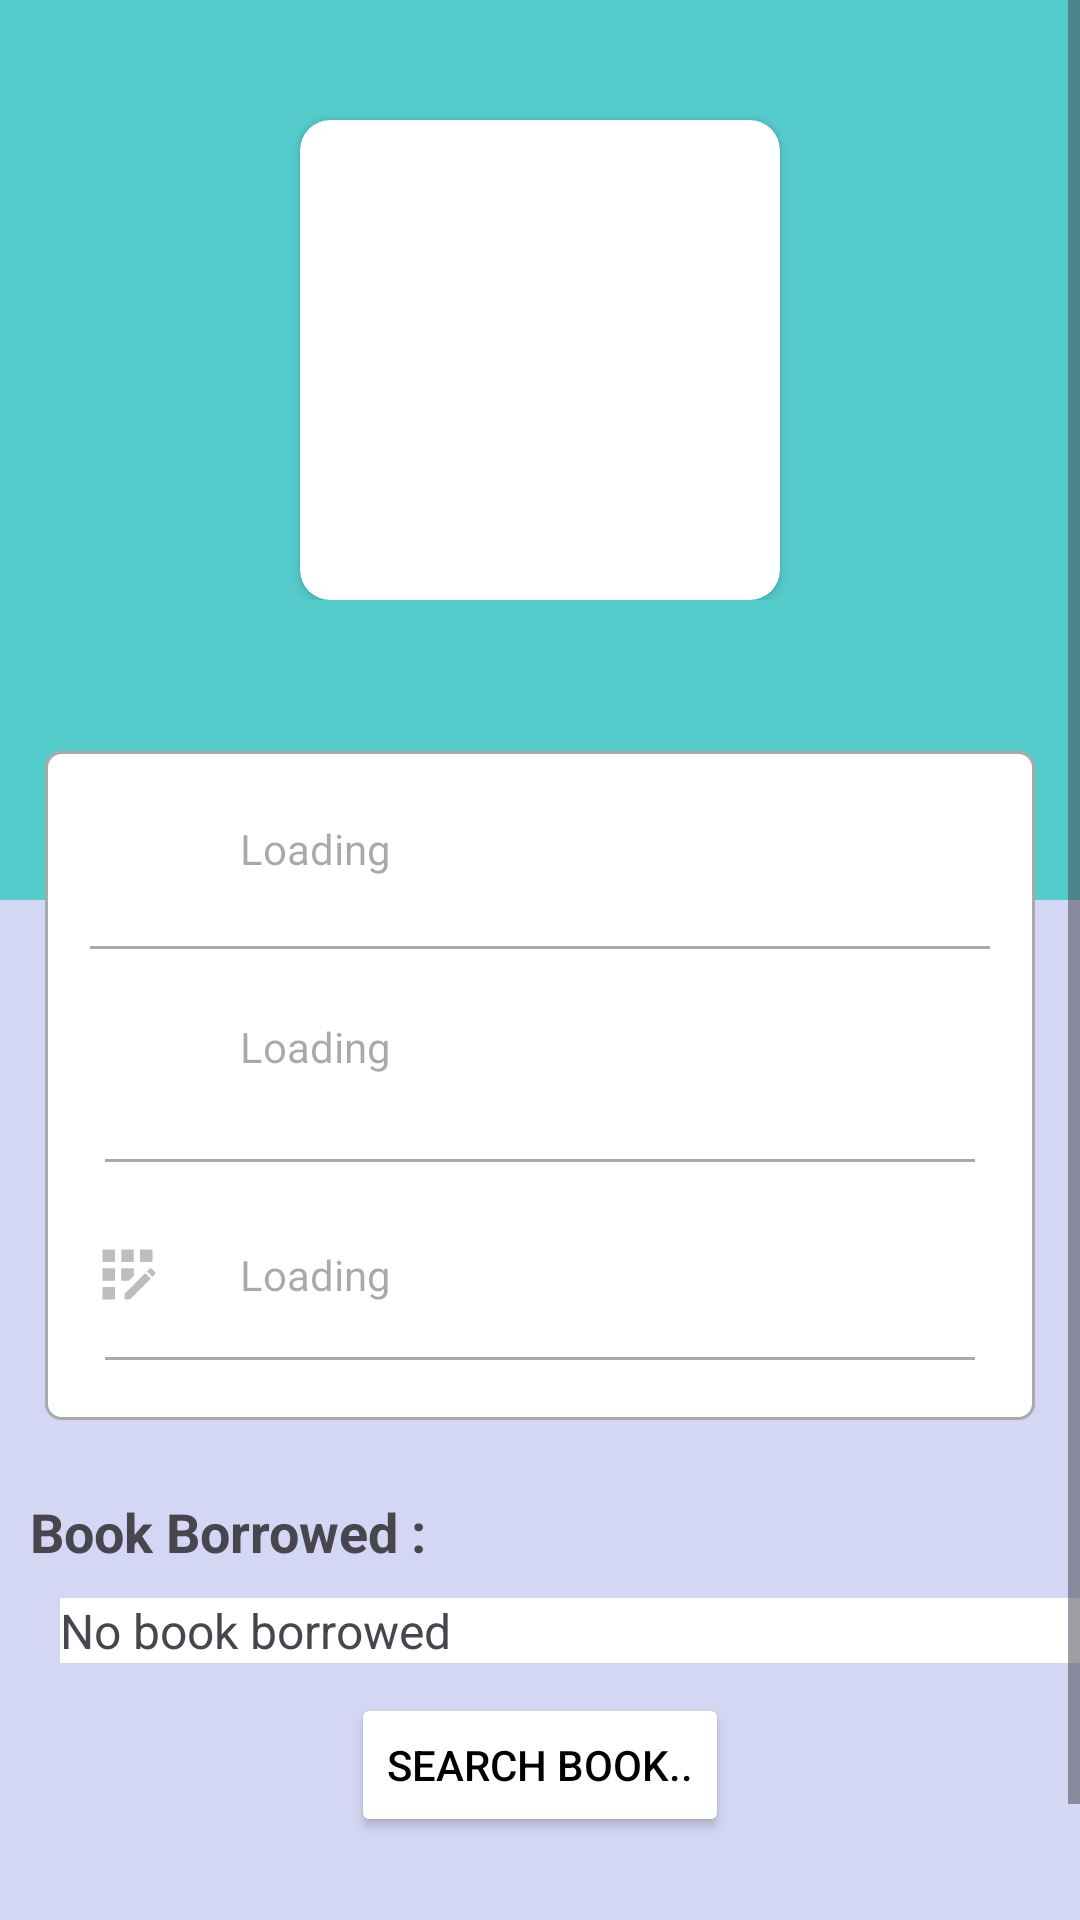

Screen size 1080 × 1920. Icon name, then its box in pixels as (x1, y1, x2, y2):
Register Number*: (102, 1249, 156, 1300)
